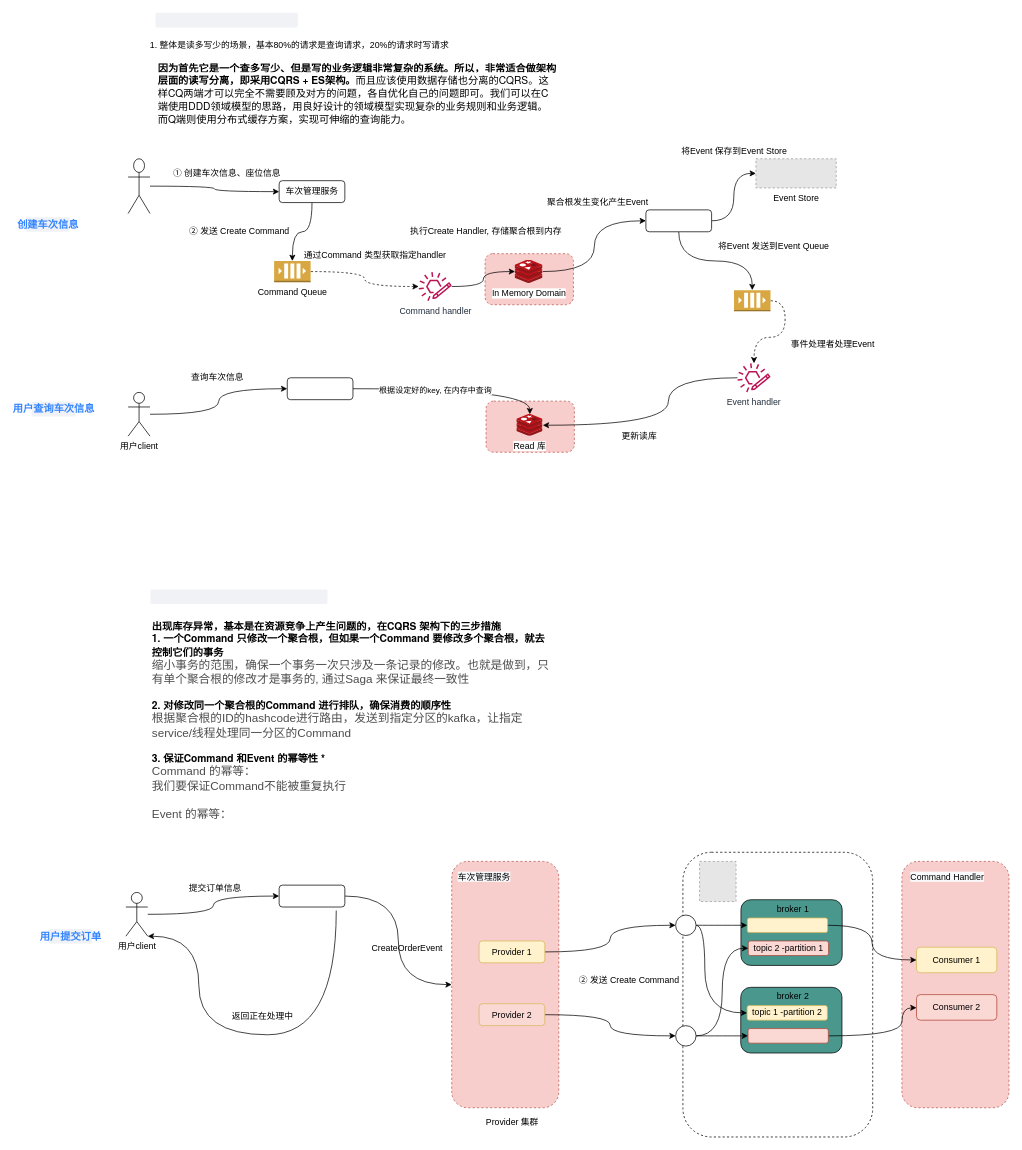
This 1022x1150 diagram has some shape labels left out. Grey dashed boxes stand in for pictures. The centre of each missing label's shape, as x and y in pixels:
12306 工作人员: (x=138, y=186)
Event: (x=678, y=220)
Event Queue: (x=752, y=300)
topic 1 -partition 1: (x=787, y=925)
topic 2 -partition 2: (x=787, y=1035)
业务场景一： 数据量大，查询慢: (x=226, y=19)
业务场景二： 超卖超买等库存处理异常: (x=238, y=596)
订单服务: (x=311, y=895)
车次查询服务: (x=320, y=388)
